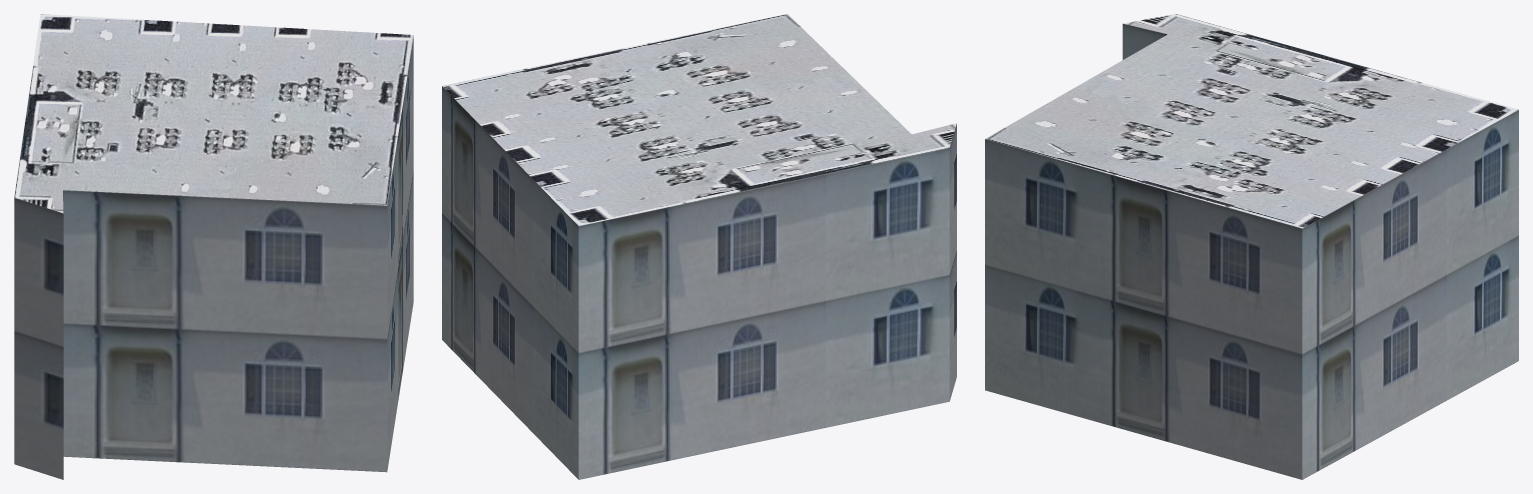
The model's file is ResTex__3180.fbx.
3 renders of one model, left to right at view 1: azimuth 30°, elevation 25°; view 2: azimuth 150°, elevation 25°; view 3: azimuth 270°, elevation 25°, orthographic. The views are drawn at different scales.
Visible parts, largest first — view 1: CityEngineMaterial_17_m, CityEngineMaterial_4_m; view 2: CityEngineMaterial_17_m, CityEngineMaterial_4_m; view 3: CityEngineMaterial_17_m, CityEngineMaterial_4_m.
Part boxes in pixels (x1,y1,x2,y2): CityEngineMaterial_17_m: [14, 37, 413, 479]; CityEngineMaterial_4_m: [14, 14, 413, 213]; CityEngineMaterial_17_m: [442, 86, 956, 479]; CityEngineMaterial_4_m: [442, 14, 956, 225]; CityEngineMaterial_17_m: [985, 23, 1518, 479]; CityEngineMaterial_4_m: [985, 14, 1518, 228].
Size of the model in its own units: 10.98 by 6 by 11.55.
Materials: 2 (2 with a texture image).
